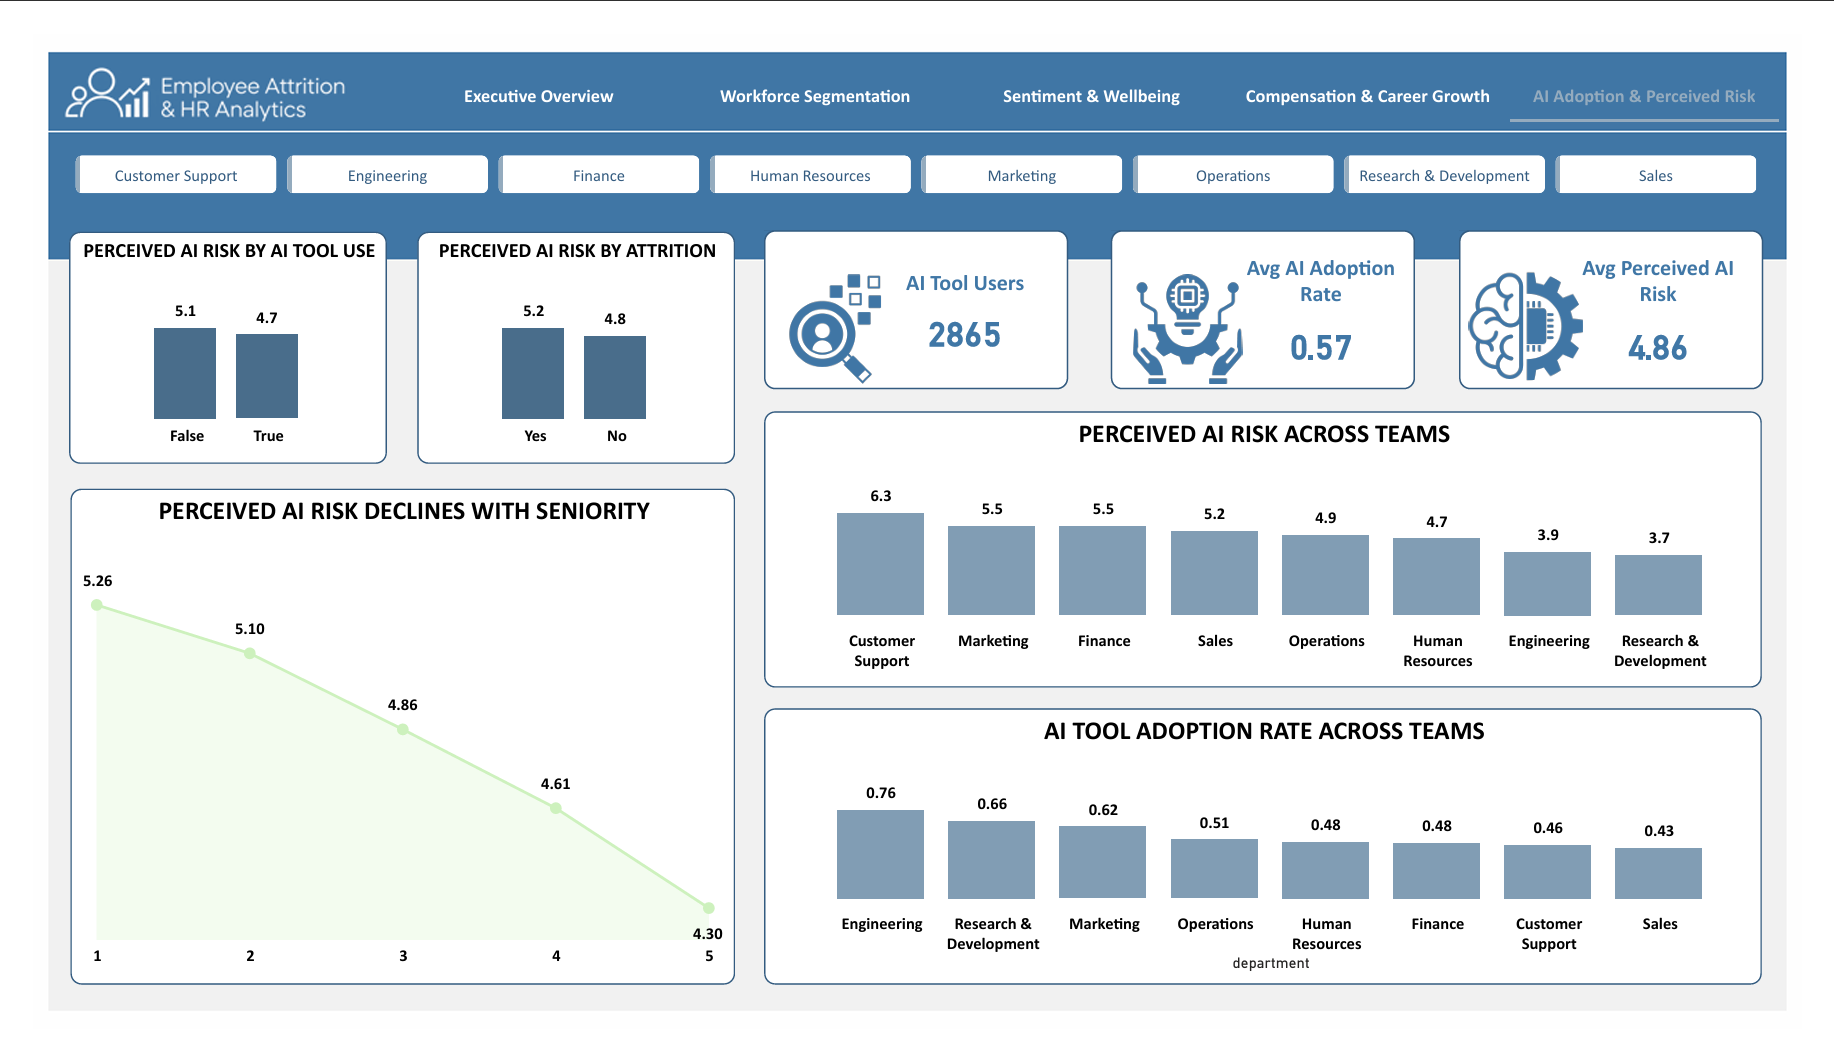

This screenshot's page, from the dashboard's own definition file:
{"tool":"powerbi","page":{"name":"AI Adoption & Perceived Risk","canvas":[1280,720],"ordinal":5},"visuals":[{"type":"columnChart","title":"PERCEIVED AI RISK BY AI TOOL USE","fields":{"Category":["vw_dashboard_employees.uses_ai_tools_at_work"],"Y":["measures_table.Avg Perceived AI Risk"]},"box":[26.2,142.5,230,168],"z":0},{"type":"columnChart","title":"PERCEIVED AI RISK ACROSS TEAMS","fields":{"Category":["vw_dashboard_employees.department"],"Y":["measures_table.Avg Perceived AI Risk"]},"box":[528.8,272.8,722.5,200],"z":1000},{"type":"columnChart","title":"PERCEIVED AI RISK BY ATTRITION","fields":{"Category":["vw_dashboard_employees.attrition"],"Y":["measures_table.Avg Perceived AI Risk"]},"box":[277.5,142.5,230,168],"z":2000},{"type":"pageNavigator","box":[268.6,24.3,995.7,40],"z":3000},{"type":"advancedSlicerVisual","fields":{"Values":["vw_dashboard_employees.department"]},"box":[26.2,82.5,1226.2,37.5],"z":4000},{"type":"shape","box":[529,142,220,115],"z":5000},{"type":"shape","box":[780.3,142,220,115],"z":6000},{"type":"shape","box":[1031.5,142,220,115],"z":7000},{"type":"card","title":"AI Tool Users","fields":{"Values":["measures_table.AI Tool Users"]},"box":[599.6,170.1,149.6,62.7],"z":8000},{"type":"card","title":"Avg AI Adoption Rate","fields":{"Values":["measures_table.AI Tool Adoption Rate"]},"box":[863.8,158.8,136.2,85],"z":10000},{"type":"image","box":[780.6,173.7,109.8,79.6],"z":11000},{"type":"card","title":"Avg Perceived AI Risk","fields":{"Values":["measures_table.Avg Perceived AI Risk"]},"box":[1101.5,159.3,149.7,84.9],"z":12000},{"type":"image","box":[1031.5,170.1,97.7,83.2],"z":13000},{"type":"columnChart","title":"AI TOOL ADOPTION RATE ACROSS TEAMS","fields":{"Y":["measures_table.AI Tool Adoption Rate"],"Category":["vw_dashboard_employees.department"]},"box":[528.8,487.8,722.5,200],"z":14000},{"type":"lineChart","title":"PERCEIVED AI RISK DECLINES WITH SENIORITY","fields":{"Category":["vw_dashboard_employees.job_level"],"Y":["measures_table.Avg Perceived AI Risk"]},"box":[26.5,329.4,481.4,358.3],"z":15000},{"type":"image","box":[521.2,173.7,118.2,79.6],"z":15001}]}

Visuals, with their boxes in screenshot pixels (x1, y1, x2, y2), scaled from the page's 1280x720 canvas onto the 1834x1062 screenshot:
"PERCEIVED AI RISK BY AI TOOL USE" columnChart: (left=38, top=210, right=367, bottom=458)
"PERCEIVED AI RISK ACROSS TEAMS" columnChart: (left=758, top=402, right=1793, bottom=697)
"PERCEIVED AI RISK BY ATTRITION" columnChart: (left=398, top=210, right=727, bottom=458)
pageNavigator: (left=385, top=36, right=1812, bottom=95)
advancedSlicerVisual - vw_dashboard_employees.department: (left=38, top=122, right=1794, bottom=177)
shape: (left=758, top=209, right=1073, bottom=379)
shape: (left=1118, top=209, right=1433, bottom=379)
shape: (left=1478, top=209, right=1793, bottom=379)
"AI Tool Users" card: (left=859, top=251, right=1073, bottom=343)
"Avg AI Adoption Rate" card: (left=1238, top=234, right=1433, bottom=360)
image: (left=1118, top=256, right=1276, bottom=374)
"Avg Perceived AI Risk" card: (left=1578, top=235, right=1793, bottom=360)
image: (left=1478, top=251, right=1618, bottom=374)
"AI TOOL ADOPTION RATE ACROSS TEAMS" columnChart: (left=758, top=720, right=1793, bottom=1015)
"PERCEIVED AI RISK DECLINES WITH SENIORITY" lineChart: (left=38, top=486, right=728, bottom=1014)
image: (left=747, top=256, right=916, bottom=374)
